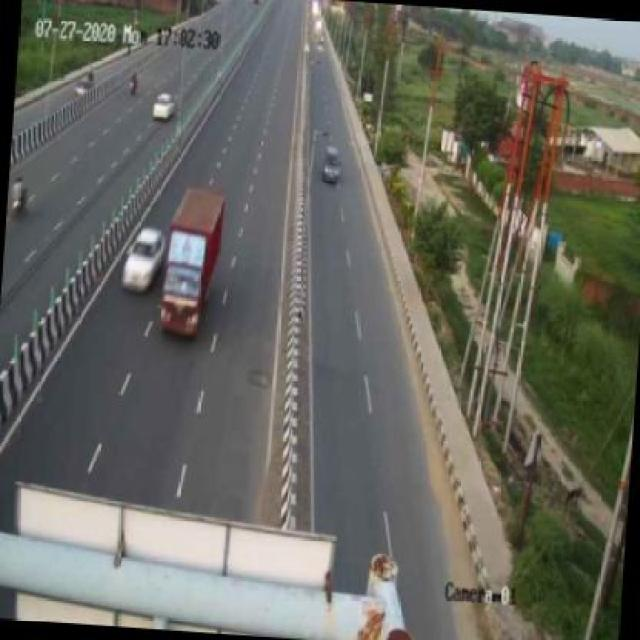car: (123, 226, 160, 292), (316, 142, 344, 188)
